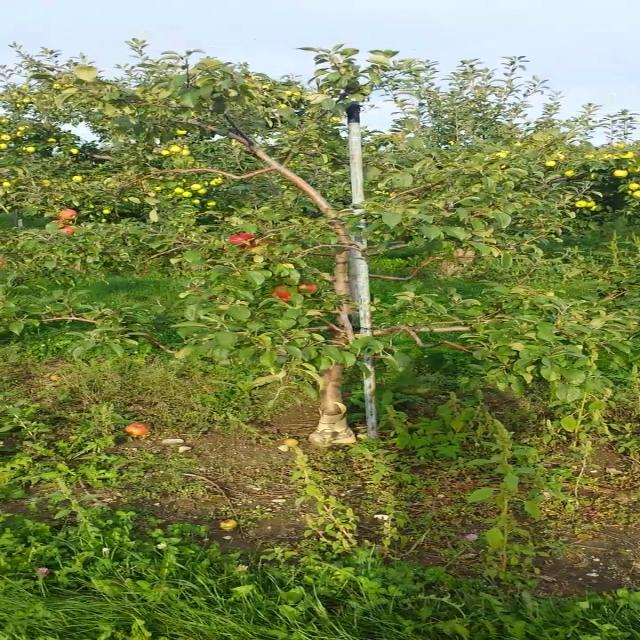apple: (229, 232, 256, 246), (274, 286, 293, 302), (244, 240, 272, 250), (59, 208, 78, 220), (299, 283, 317, 293), (60, 226, 74, 236)
